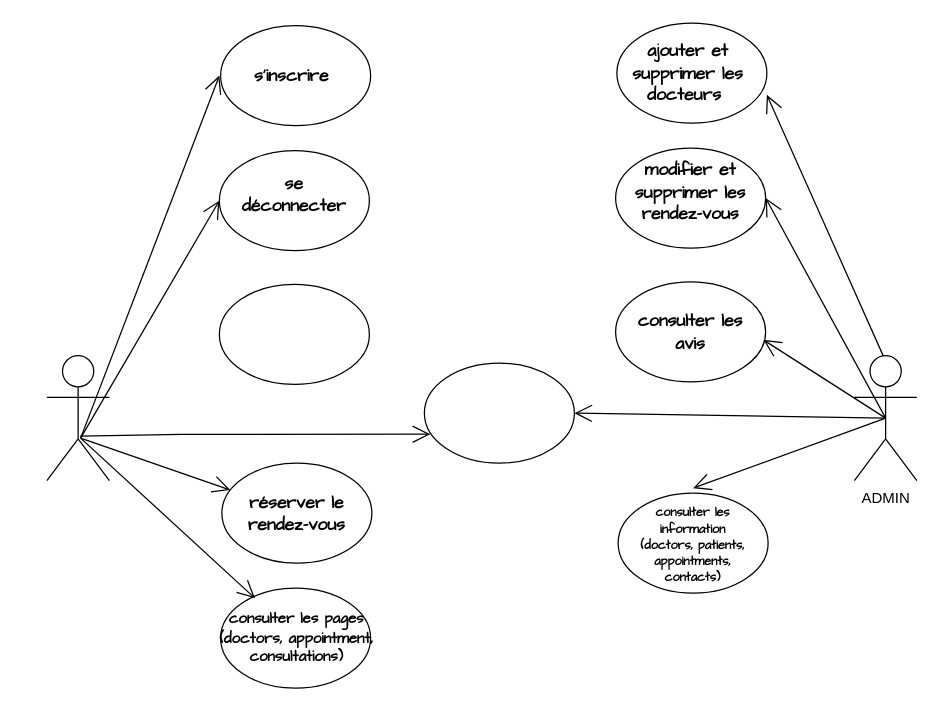
Some shapes in this 939 by 710 pixel diagram are drawn without their labels. Each missing label, with the centre of its shape:
"L'UTILUSATEUR" belongs at (77,417).
"se connecter" belongs at (498,412).
"écrire un message" belongs at (293,333).
